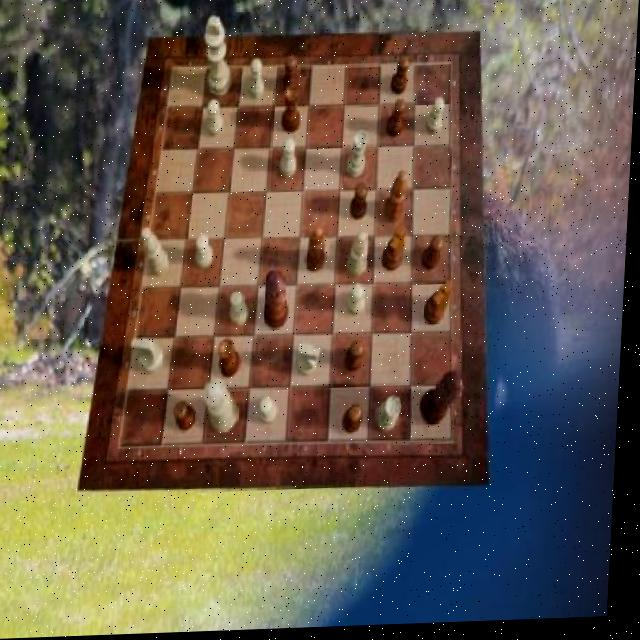bishop: (386, 174, 411, 227), (308, 227, 330, 274)
black-bishop: (425, 375, 470, 430)
black-king: (426, 283, 456, 328), (385, 227, 410, 275)
black-knight: (386, 102, 407, 140), (424, 239, 446, 274), (392, 59, 411, 99), (177, 403, 201, 433), (284, 57, 301, 98), (352, 187, 370, 224), (349, 344, 369, 376), (346, 409, 366, 437)
black-pawn: (266, 273, 295, 332)
black-queen: (221, 340, 246, 381), (282, 88, 303, 135)
black-rook: (142, 229, 174, 279), (350, 234, 373, 280)
white-bishop: (204, 18, 236, 100)
white-king: (134, 339, 168, 376), (301, 344, 326, 379)
white-knight: (208, 100, 227, 138), (428, 101, 447, 139), (233, 293, 253, 328), (250, 60, 267, 100), (198, 235, 217, 270), (282, 140, 299, 179), (351, 286, 369, 319), (262, 399, 282, 427)
white-pawn: (206, 380, 245, 436)
white-queen: (349, 134, 371, 182), (381, 399, 407, 435)
